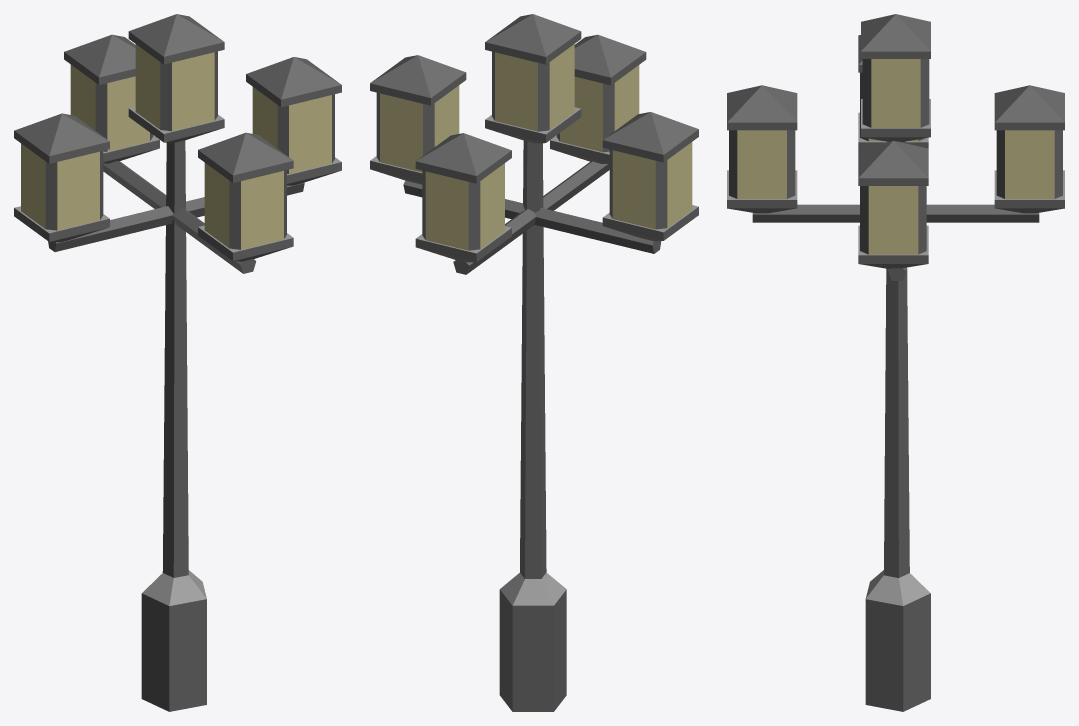
The model's file is pillar_007.fbx.
The picture shows the model from 3 angles, left to right: view 1: azimuth 30°, elevation 25°; view 2: azimuth 150°, elevation 25°; view 3: azimuth 270°, elevation 25°; orthographic projection.
Parts seen in each view (by area): view 1: pillar_007; view 2: pillar_007; view 3: pillar_007.
Part boxes in pixels (box(x1,y1,x2,y2)): pillar_007: box(14, 14, 341, 711); pillar_007: box(370, 14, 698, 711); pillar_007: box(727, 14, 1064, 711).
Bounding box in the file's own units: 151 × 336 × 151.
